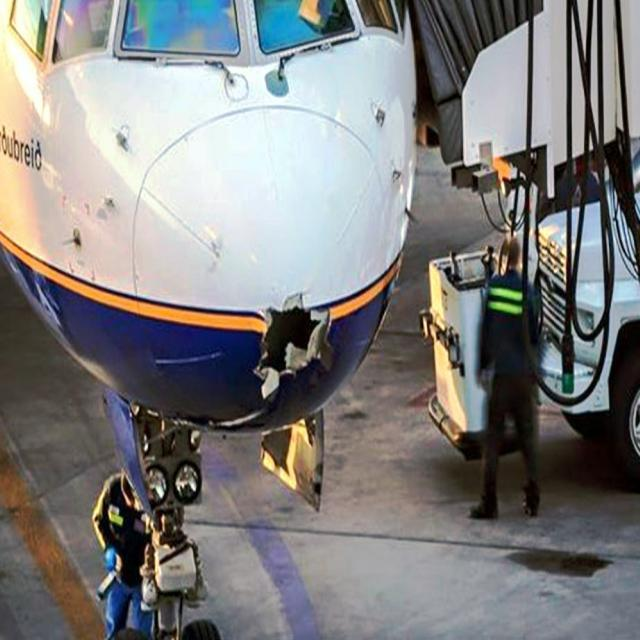crack: (250, 294, 336, 408)
